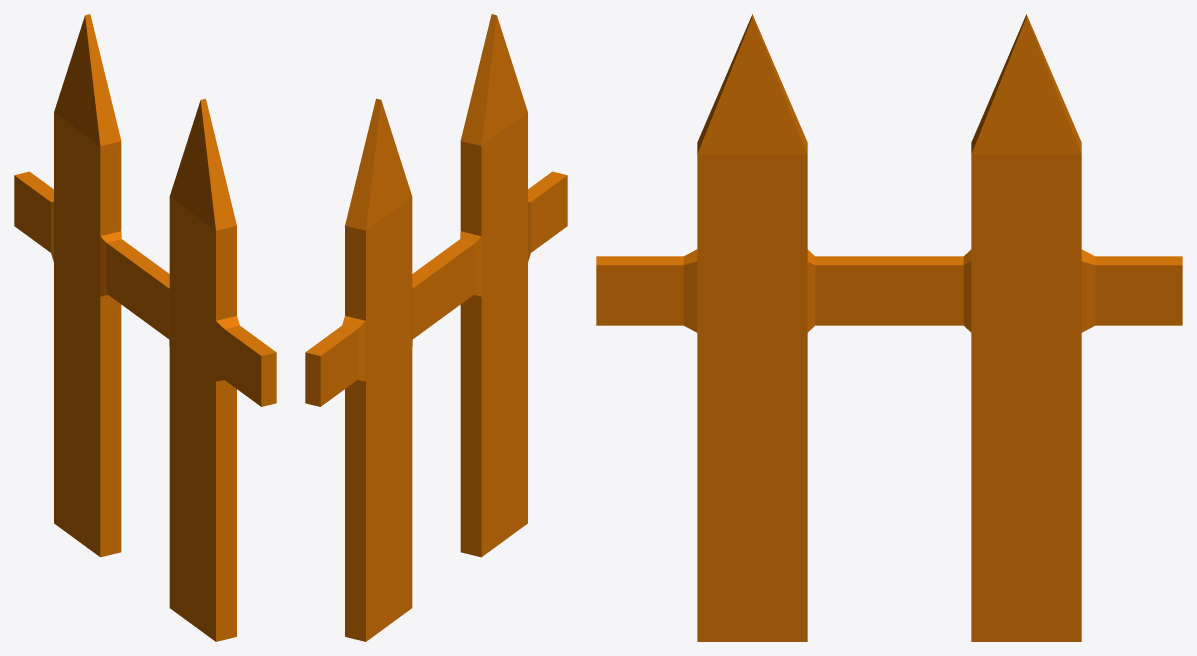
The model's file is Fence.fbx.
The picture shows the model from 3 angles, left to right: view 1: azimuth 30°, elevation 25°; view 2: azimuth 150°, elevation 25°; view 3: azimuth 270°, elevation 25°; orthographic projection. The views are drawn at different scales.
Parts seen in each view (by area): view 1: Cube; view 2: Cube; view 3: Cube.
Part boxes in pixels (x1,y1,x2,y2): Cube: [14, 14, 276, 641]; Cube: [305, 14, 567, 641]; Cube: [596, 14, 1182, 641].
Size of the model in its own units: 10.69 by 255 by 218.
